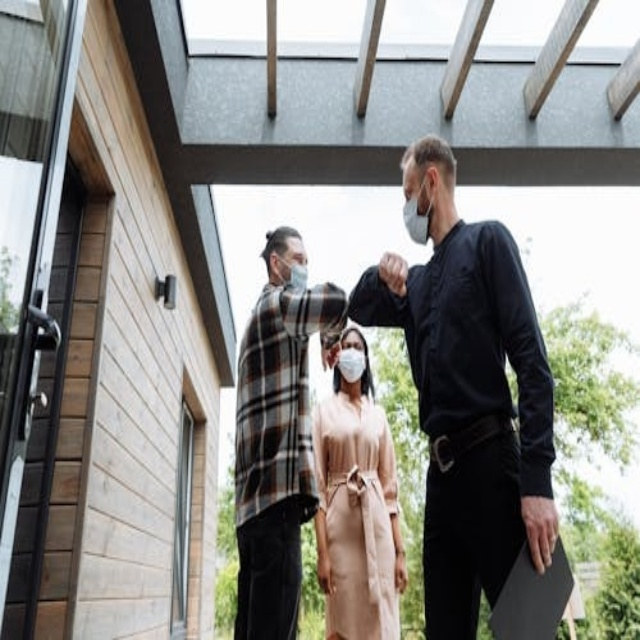Mascara: (402, 176, 433, 244), (278, 258, 308, 294), (337, 348, 366, 383)
Sin_gafas: (397, 163, 420, 202), (280, 244, 315, 263), (337, 332, 367, 348)
Sin_guantes: (520, 495, 561, 570), (311, 540, 338, 588), (390, 546, 412, 600)
